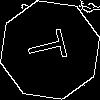T: (25, 25, 76, 67)
